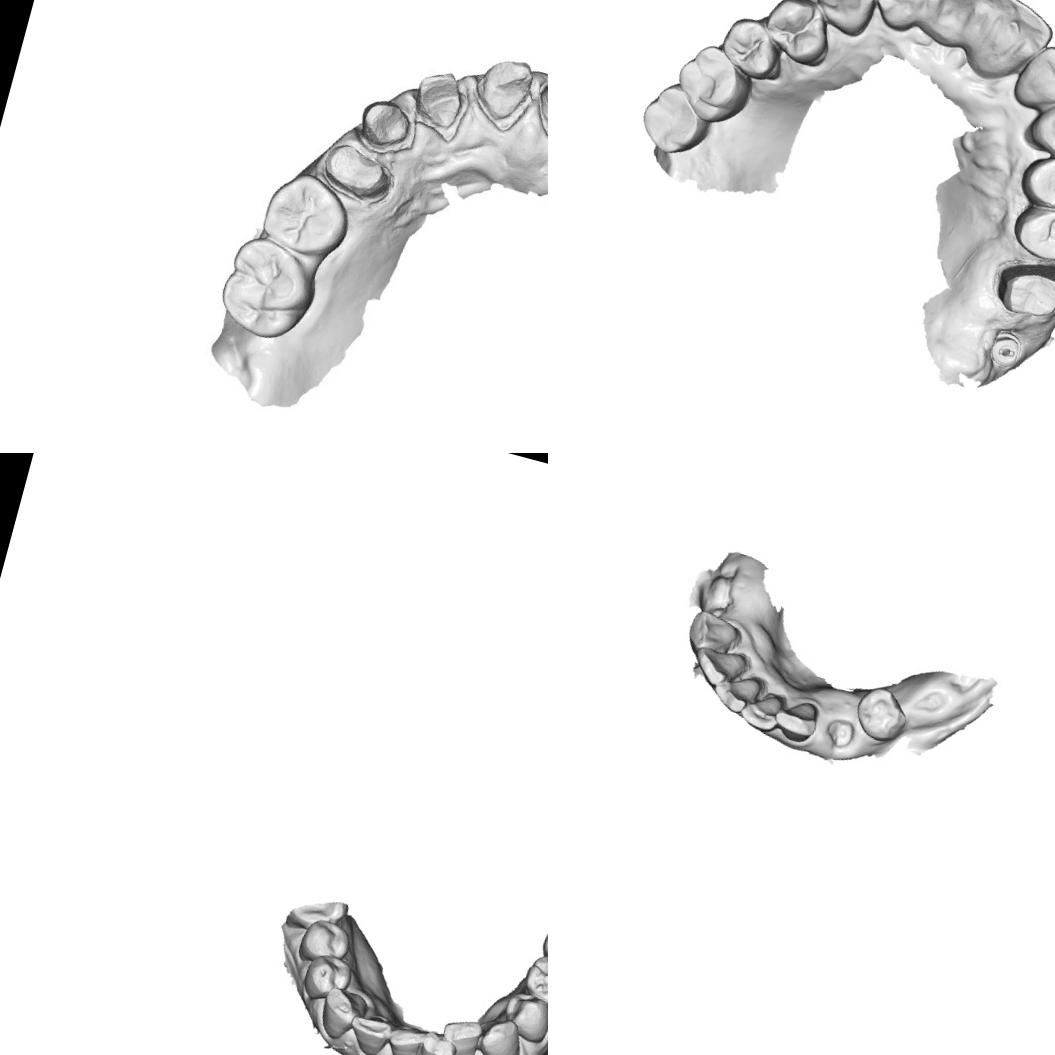canine: (314, 982, 371, 1044), (684, 606, 746, 659), (807, 0, 884, 41), (1023, 88, 1055, 165), (471, 1012, 527, 1055)
crown: (318, 135, 404, 213), (472, 45, 542, 126), (348, 91, 426, 162), (987, 251, 1055, 325), (408, 63, 471, 134), (529, 67, 548, 145)
implant_minus: (984, 330, 1026, 376)
incisor: (958, 0, 1055, 94), (909, 0, 1003, 54), (1006, 35, 1055, 118), (688, 642, 749, 692), (768, 693, 822, 747), (709, 667, 764, 718), (859, 0, 932, 36), (736, 687, 786, 735), (342, 1011, 393, 1055), (433, 1012, 485, 1055), (381, 1023, 423, 1055), (413, 1027, 460, 1055)
molar: (216, 234, 316, 340), (666, 35, 763, 131), (259, 170, 354, 258), (632, 76, 720, 164)
premolar: (712, 10, 788, 86), (756, 0, 839, 69), (849, 682, 913, 747), (297, 948, 356, 1008), (294, 914, 356, 971), (1006, 196, 1055, 268), (495, 987, 548, 1046), (1016, 146, 1055, 215), (518, 950, 548, 1015)
